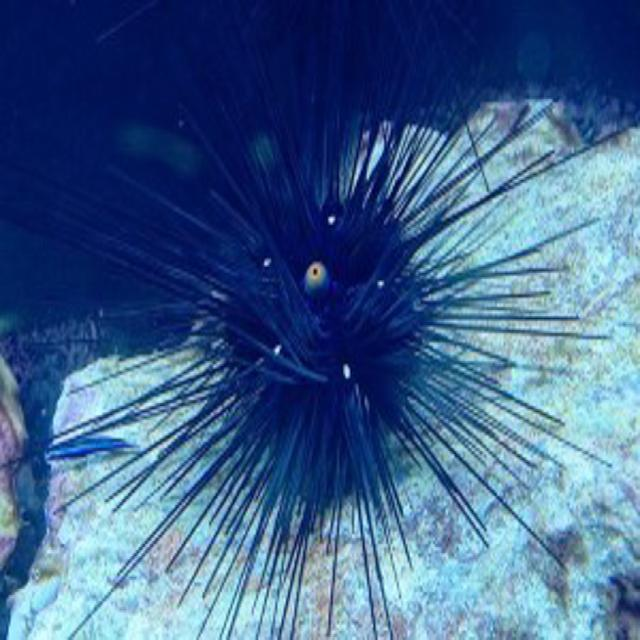Urchin: (49, 46, 595, 616)
